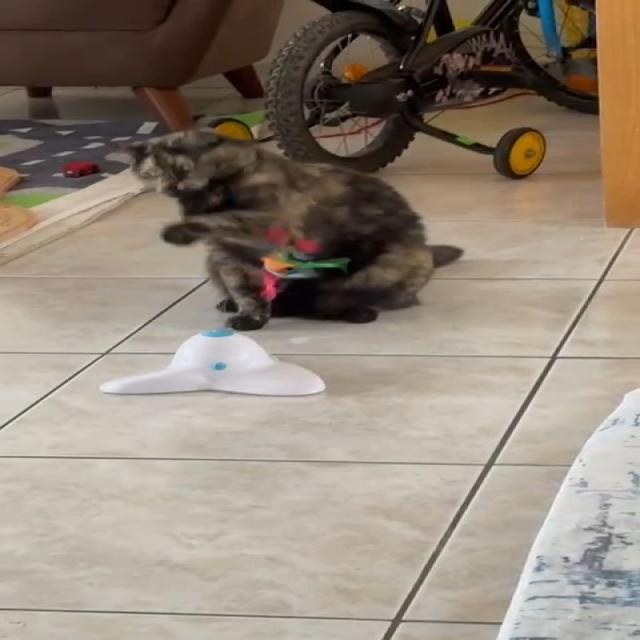authorized: (123, 127, 464, 330)
